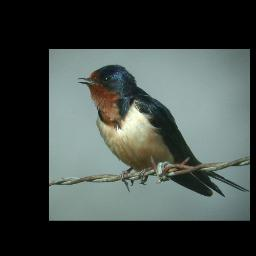Swallow: (77, 64, 250, 197)
